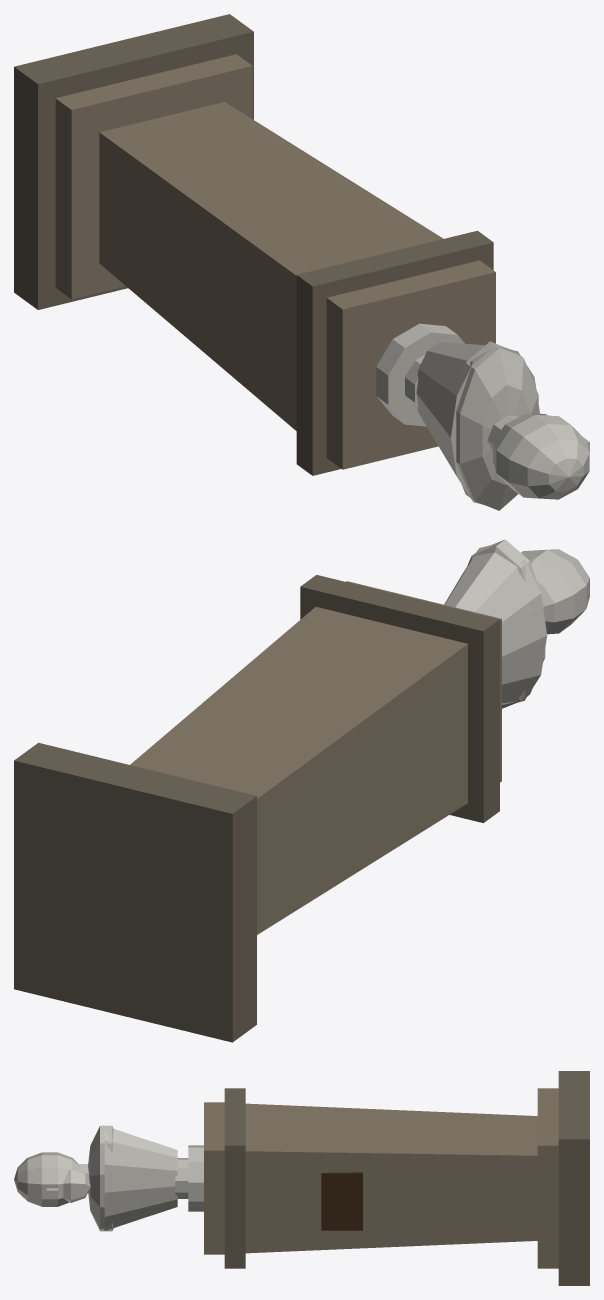
The model's file is bust-pedestal.glb.
The picture shows the model from 3 angles, top to bottom: view 1: azimuth 30°, elevation 25°; view 2: azimuth 150°, elevation 25°; view 3: azimuth 270°, elevation 25°; orthographic projection. The views are drawn at different scales.
Visible parts, largest first — view 1: bust-pedestal; view 2: bust-pedestal; view 3: bust-pedestal.
Boxes of the visible parts, <box> form: bust-pedestal: <box>14,14,589,510</box>; bust-pedestal: <box>14,539,589,1042</box>; bust-pedestal: <box>14,1071,589,1285</box>.
Size of the model in its own units: 0.62 by 0.62 by 2.21.
